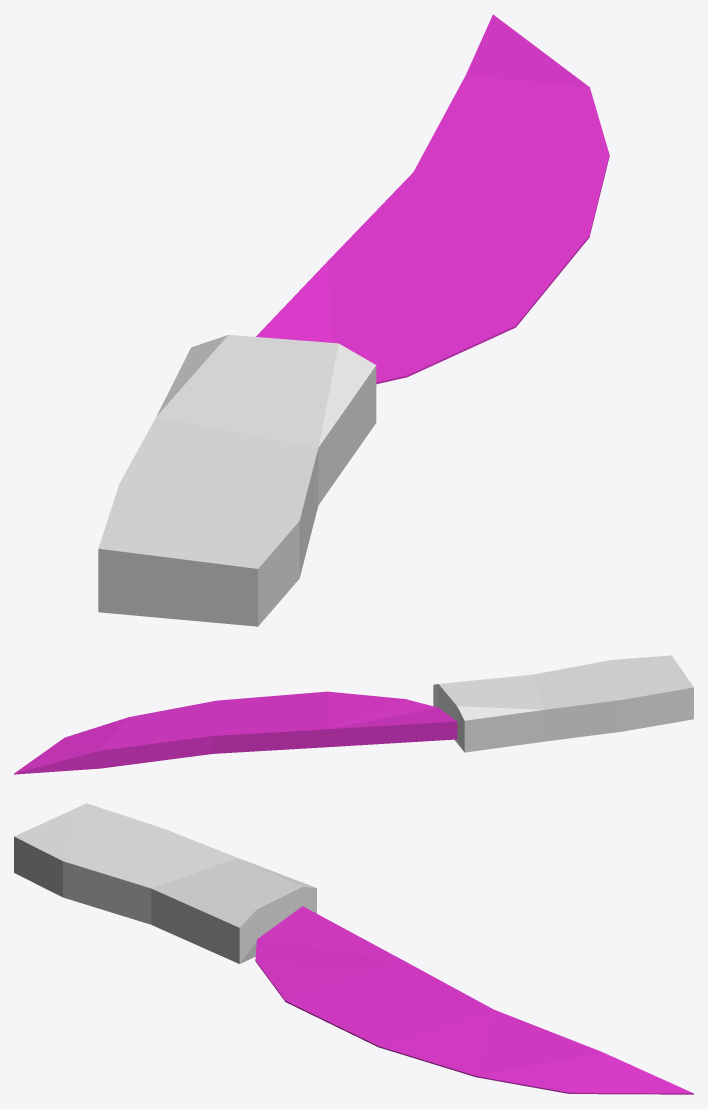
File: Knife.fbx
3 views of the same model, one above another, from view 1: azimuth 30°, elevation 25°; view 2: azimuth 150°, elevation 25°; view 3: azimuth 270°, elevation 25° (orthographic). The views are drawn at different scales.
Visible parts, largest first — view 1: Plane; view 2: Plane; view 3: Plane.
Boxes of the visible parts, bbox=[...] form: Plane: bbox=[98, 14, 609, 626]; Plane: bbox=[14, 655, 693, 774]; Plane: bbox=[14, 803, 693, 1094].
Bounding box in the file's own units: 42.82 × 3.64 × 45.68.
